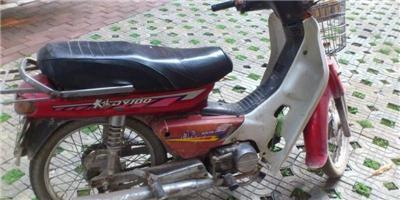motor: (19, 14, 359, 194)
